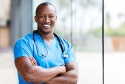male: (34, 3, 58, 35)
